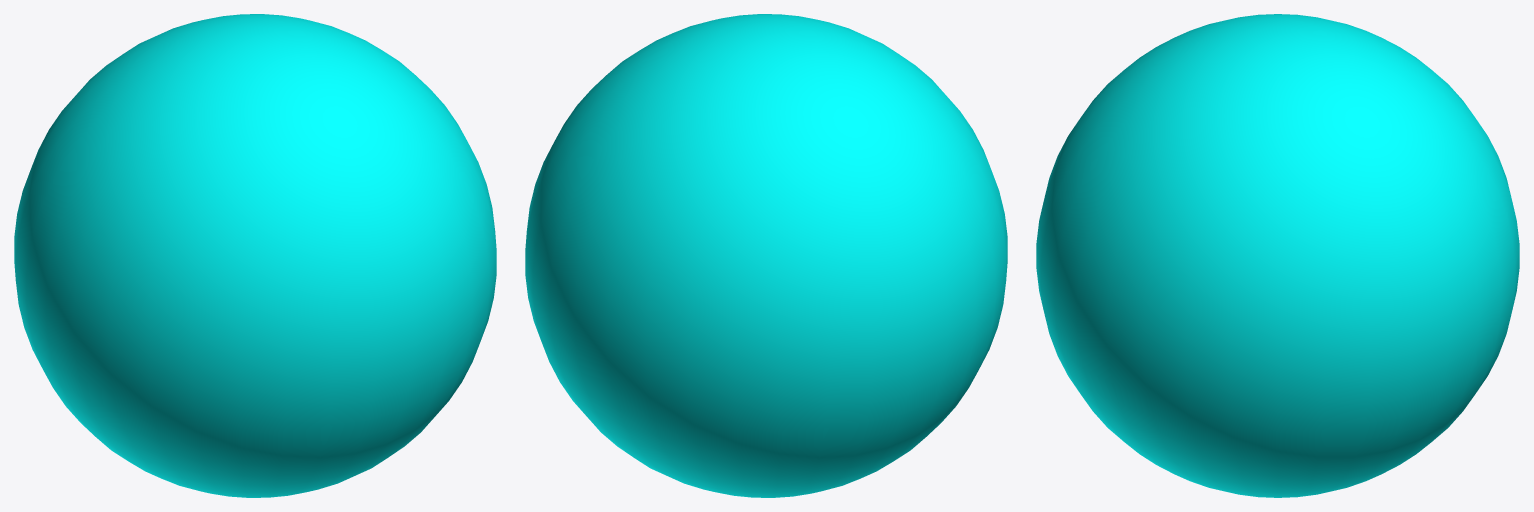
File: ball.obj
3 views of the same model, side by side, from view 1: azimuth 30°, elevation 25°; view 2: azimuth 150°, elevation 25°; view 3: azimuth 270°, elevation 25° (orthographic).
Visible parts, largest first — view 1: Sphere_Sphere.001; view 2: Sphere_Sphere.001; view 3: Sphere_Sphere.001.
Boxes of the visible parts, x1,y1,x2,y2 form: Sphere_Sphere.001: (14,14,496,497); Sphere_Sphere.001: (525,14,1007,497); Sphere_Sphere.001: (1036,14,1519,497).
Bounding box in the file's own units: 2 × 2 × 2.
